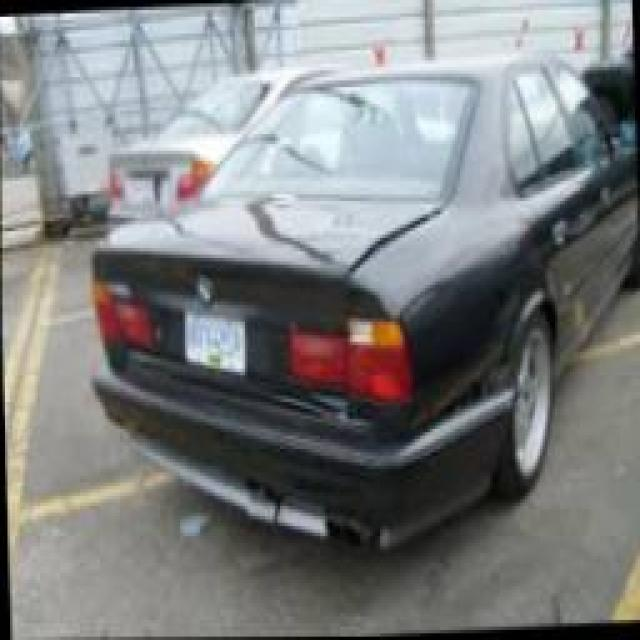Bumper: (109, 355, 512, 561)
Dickey: (97, 188, 444, 413)
